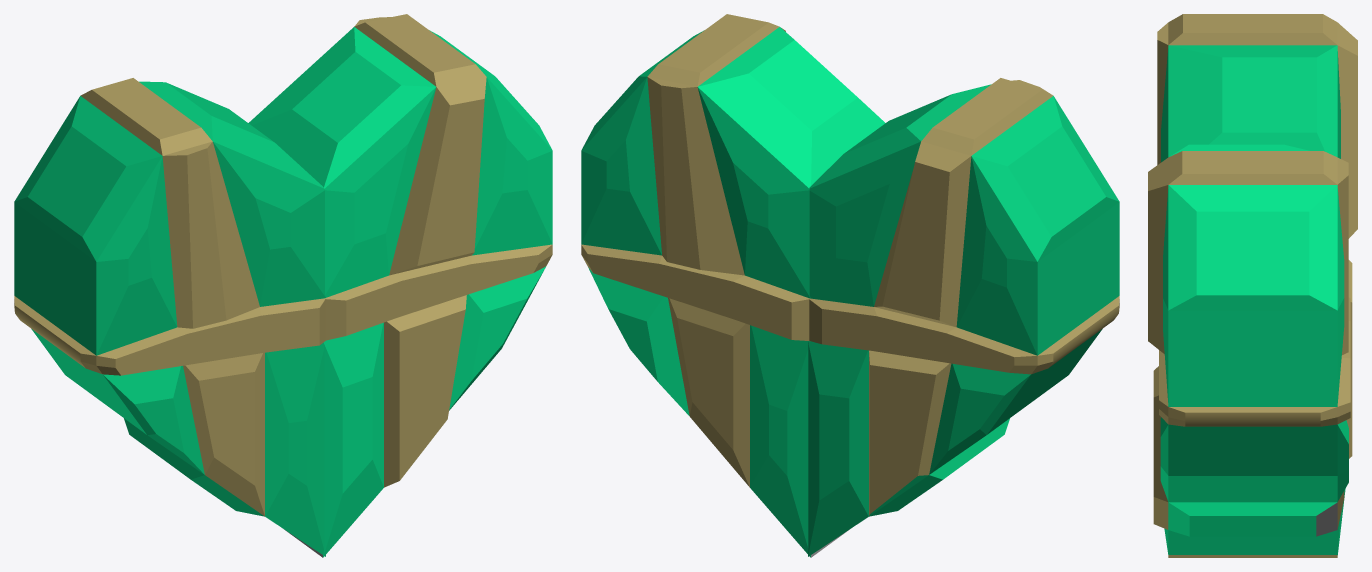
Rendered from heartjewel.fbx.
The picture shows the model from 3 angles, left to right: view 1: azimuth 30°, elevation 25°; view 2: azimuth 150°, elevation 25°; view 3: azimuth 270°, elevation 25°; orthographic projection. The views are drawn at different scales.
Parts seen in each view (by area): view 1: pCube7, pCube8; view 2: pCube7, pCube8; view 3: pCube8, pCube7.
Boxes of the visible parts, box(x1,y1,x2,y2) form: pCube7: box(14, 78, 325, 556); pCube8: box(248, 14, 552, 557); pCube7: box(808, 78, 1119, 556); pCube8: box(581, 14, 885, 557); pCube8: box(1148, 144, 1350, 554); pCube7: box(1157, 14, 1357, 557).
Size of the model in its own units: 1.28 by 1.17 by 0.4789.
